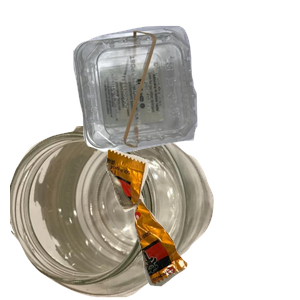glass: (10, 126, 216, 300)
metal: (78, 37, 243, 163)
plastic: (71, 23, 300, 169)
trash: (103, 147, 300, 300)
